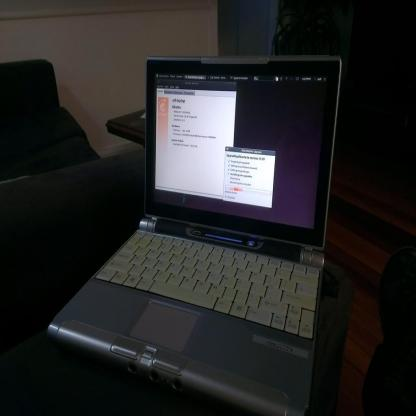board: (48, 53, 342, 414)
